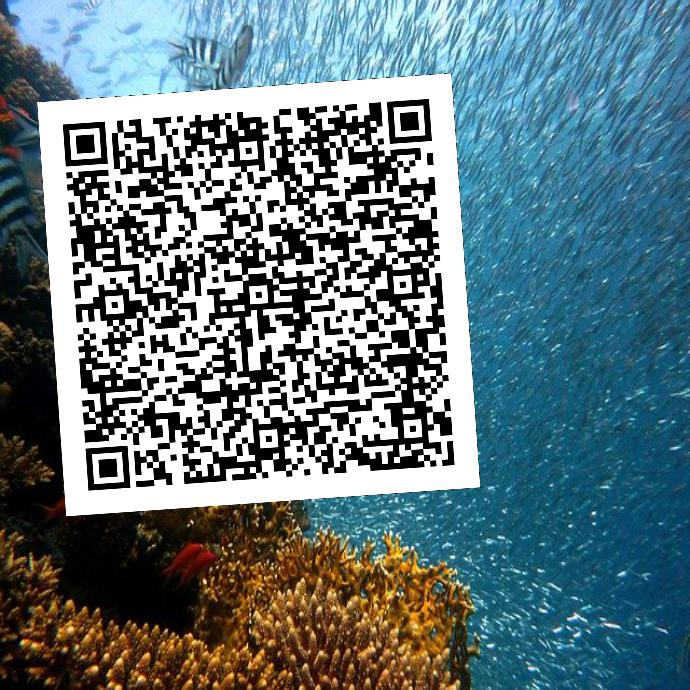qr_code: (37, 73, 480, 516)
